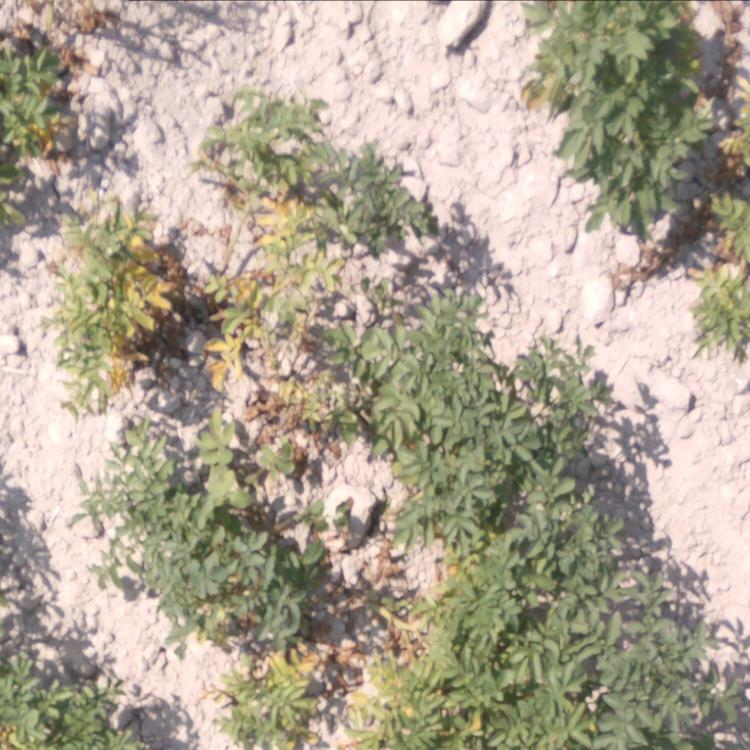healthy: (494, 331, 655, 600), (114, 449, 317, 624), (491, 610, 742, 750), (531, 1, 683, 230), (397, 281, 488, 498), (1, 658, 143, 750)
stressed: (184, 250, 374, 444), (198, 91, 421, 252), (189, 628, 480, 750), (54, 217, 174, 394), (1, 14, 85, 215), (698, 120, 750, 354), (368, 516, 479, 614)
